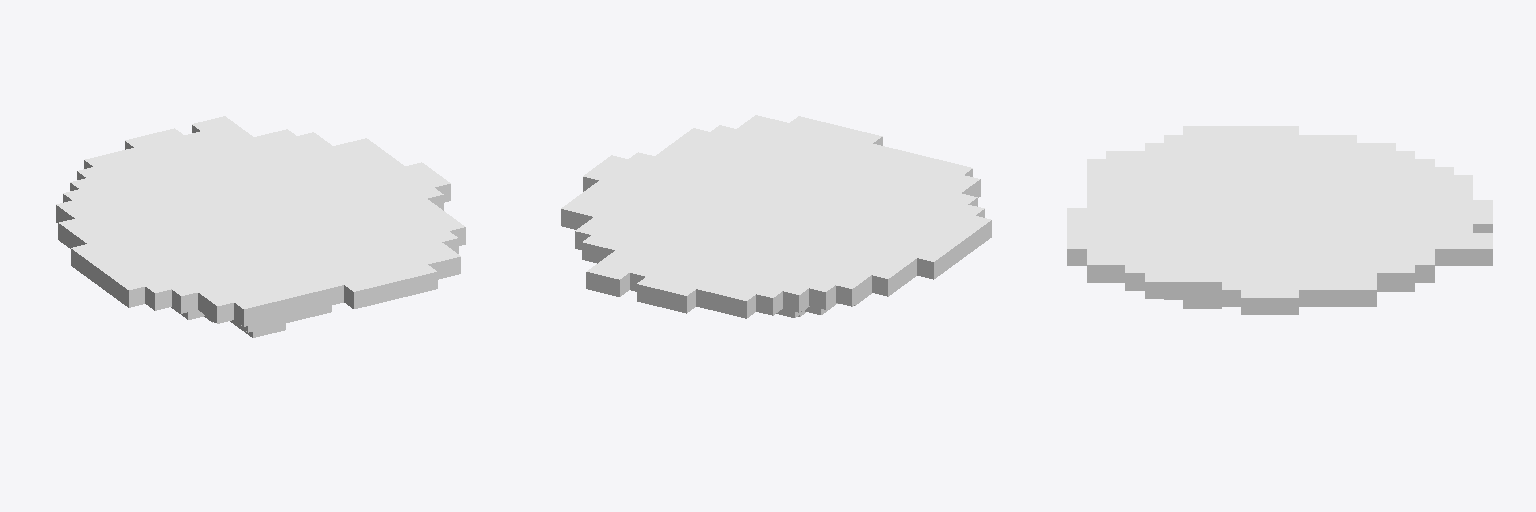
Rendered from ice_land4.obj.
The picture shows the model from 3 angles: view 1: azimuth 30°, elevation 25°; view 2: azimuth 150°, elevation 25°; view 3: azimuth 270°, elevation 25°; orthographic projection.
Visible parts, largest first — view 1: object 1; view 2: object 1; view 3: object 1.
Boxes of the visible parts, <box> form: object 1: <box>56,116,465,337</box>; object 1: <box>561,115,991,318</box>; object 1: <box>1067,126,1492,314</box>.
Size of the model in its own units: 2.1 by 0.5 by 2.2.